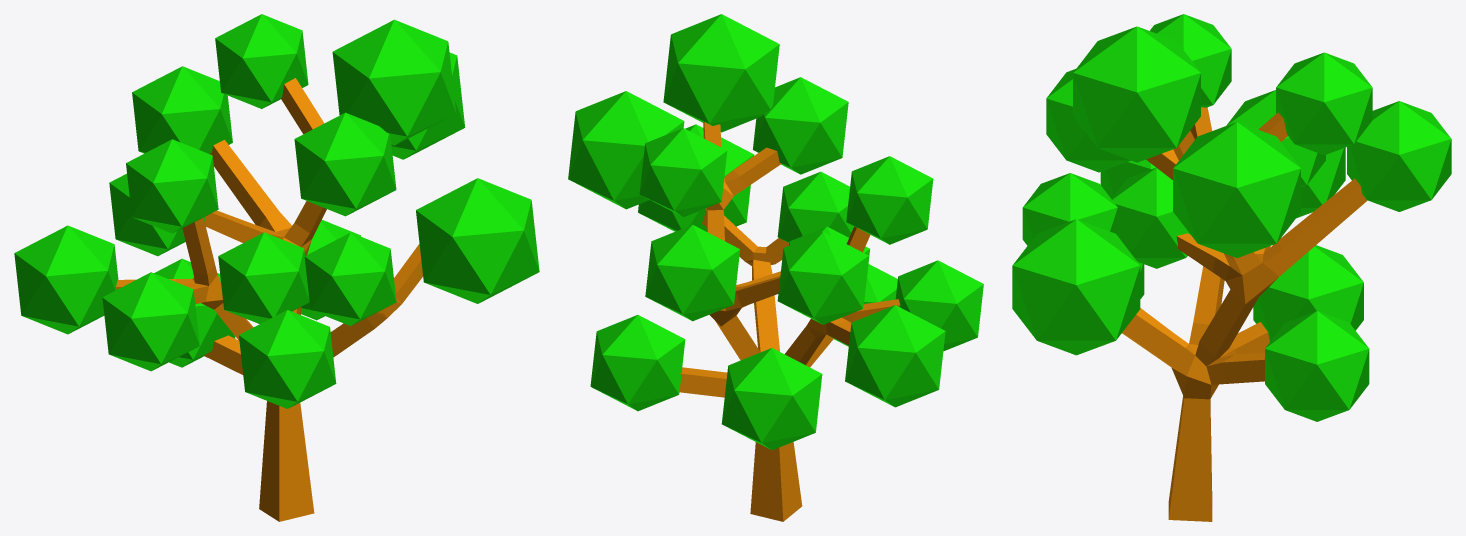
The model's file is tree.glb.
3 views of the same model, side by side, from view 1: azimuth 30°, elevation 25°; view 2: azimuth 150°, elevation 25°; view 3: azimuth 270°, elevation 25° (orthographic). The views are drawn at different scales.
Parts seen in each view (by area): view 1: Tree; view 2: Tree; view 3: Tree.
Boxes of the visible parts, x1,y1,x2,y2 form: Tree: [14, 14, 539, 521]; Tree: [568, 14, 983, 521]; Tree: [1012, 14, 1451, 521].
Size of the model in its own units: 3.04 by 3.46 by 2.6.
